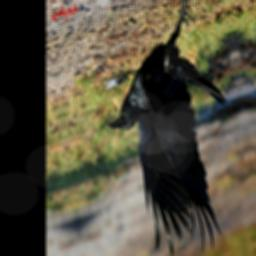Crow: (92, 0, 247, 256)
